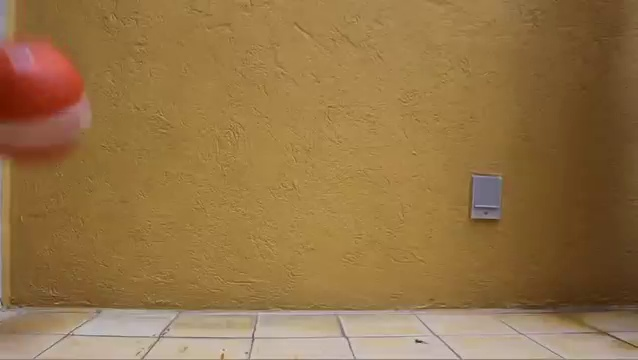ball: (1, 36, 93, 171)
